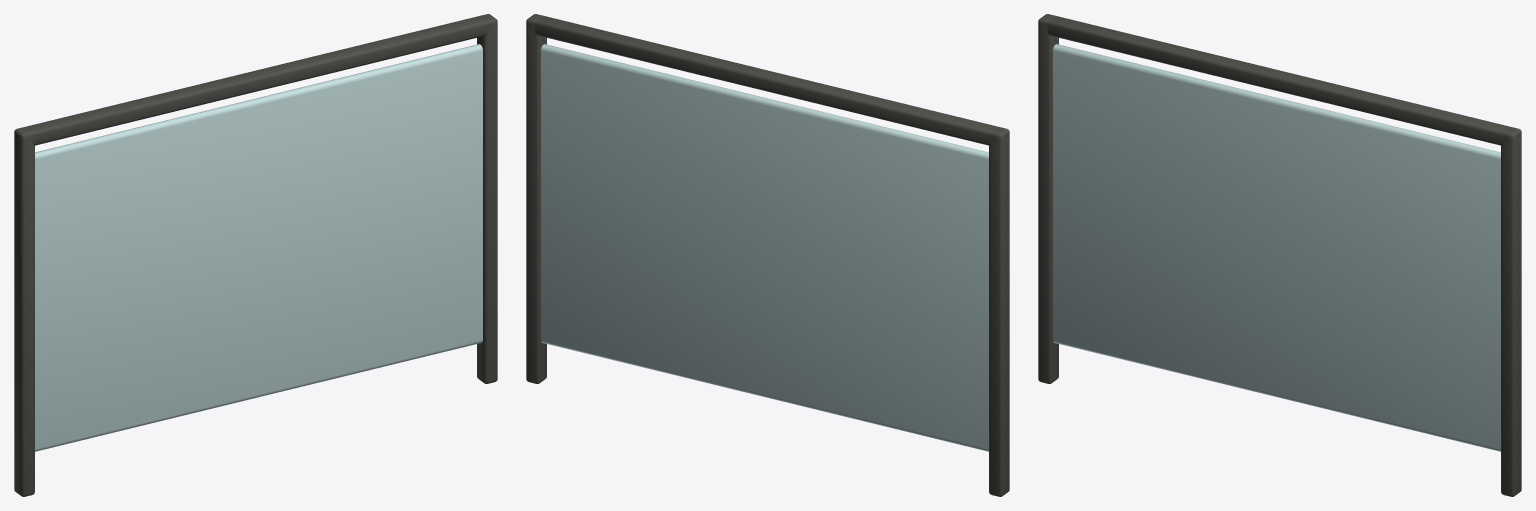
File: wall-glass.glb
3 views of the same model, side by side, from view 1: azimuth 30°, elevation 25°; view 2: azimuth 150°, elevation 25°; view 3: azimuth 330°, elevation 25° (orthographic).
Visible parts, largest first — view 1: glass, frame-top, frame, frame.001; view 2: glass, frame-top, frame, frame.001; view 3: glass, frame-top, frame.001, frame.
Boxes of the visible parts, x1,y1,x2,y2 form: glass: (35, 44, 482, 451); frame-top: (24, 15, 489, 145); frame: (14, 127, 34, 496); frame.001: (477, 14, 497, 383); glass: (541, 44, 988, 451); frame-top: (534, 15, 999, 145); frame: (989, 127, 1009, 496); frame.001: (526, 14, 546, 383); glass: (1053, 44, 1500, 451); frame-top: (1046, 15, 1511, 145); frame.001: (1501, 127, 1521, 496); frame: (1038, 14, 1058, 383).
Bounding box in the file's own units: 4.12 × 3 × 0.14.
